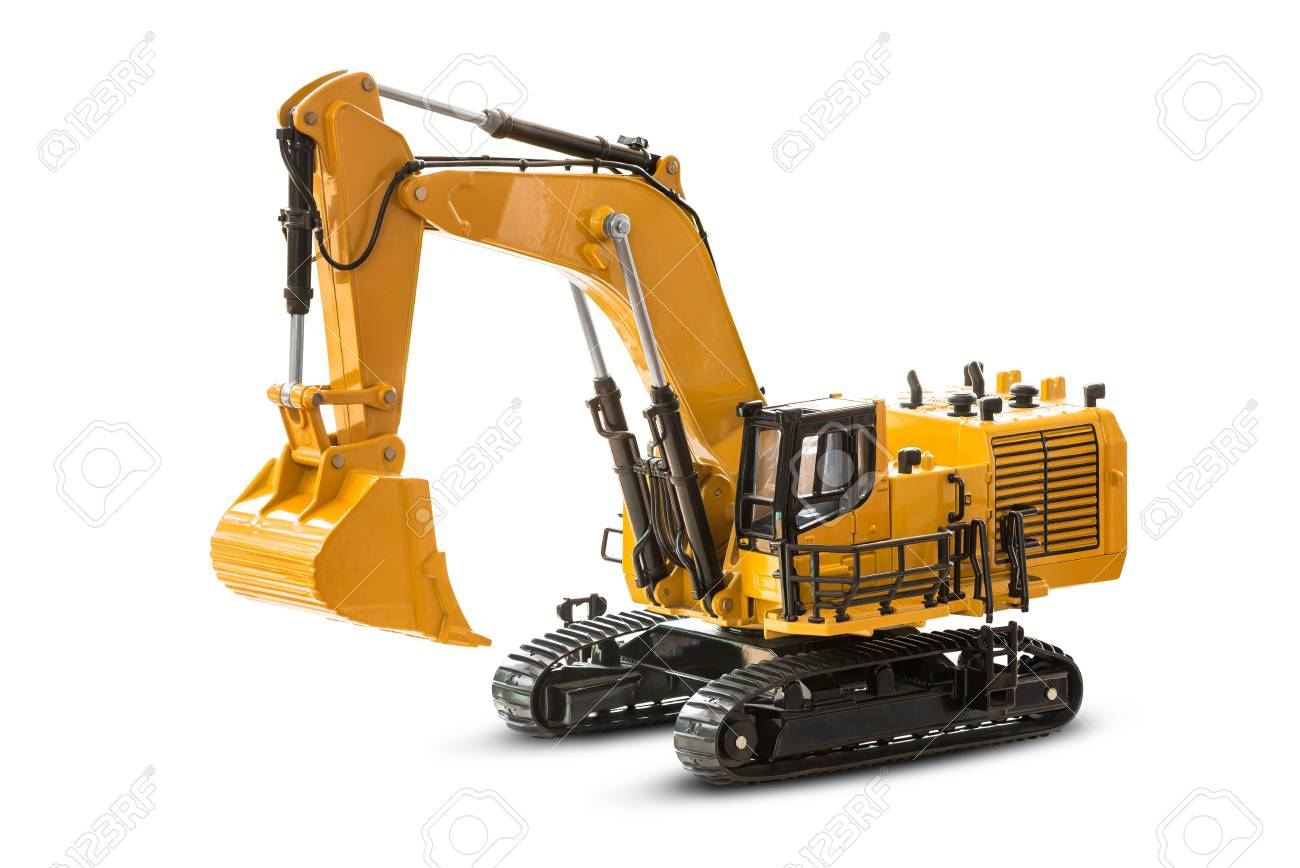backhoe: (192, 60, 1138, 791)
